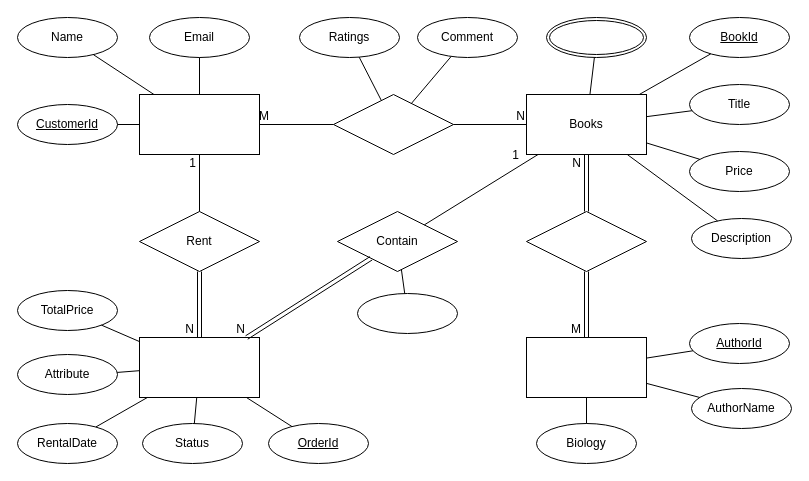
Some shapes in this 809 by 481 pixel diagram are drawn without their labels. Each missing label, with the box of its shape:
Authors: (526, 336, 646, 398)
Categories: (546, 16, 646, 58)
Customers: (138, 94, 260, 154)
Quantity: (356, 292, 458, 334)
Rate: (332, 94, 454, 154)
RentalOrders: (138, 336, 260, 398)
Write: (526, 210, 646, 272)
